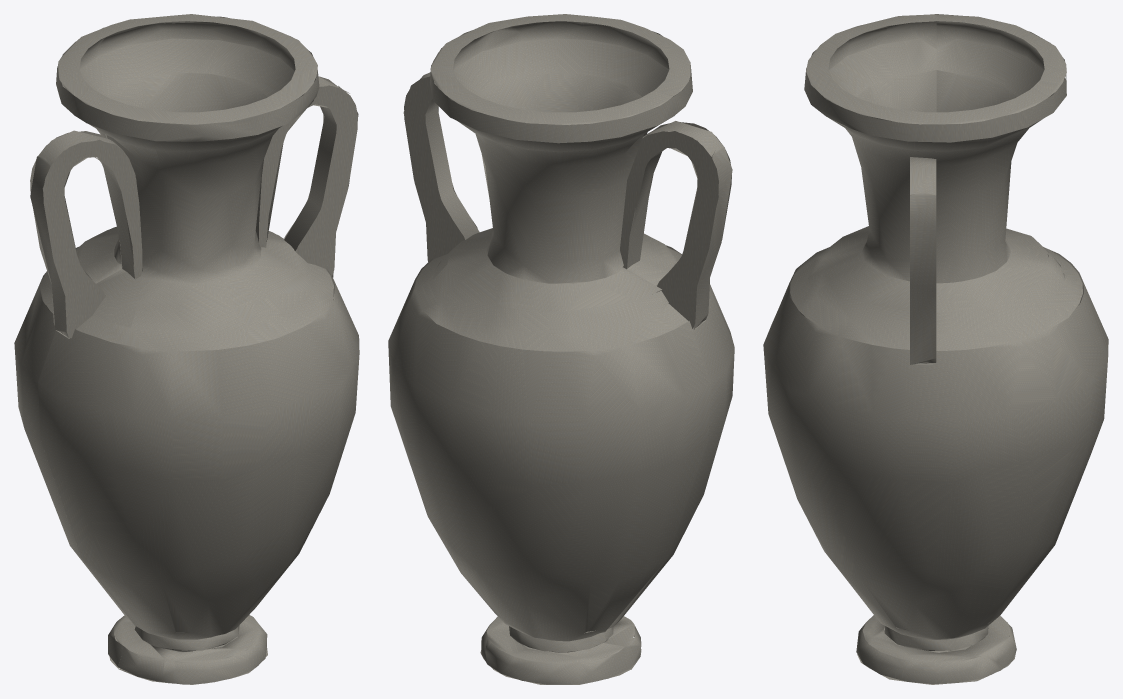
File: amphora_shadic02.glb
3 renders of one model, left to right at view 1: azimuth 30°, elevation 25°; view 2: azimuth 150°, elevation 25°; view 3: azimuth 270°, elevation 25°, orthographic.
Parts seen in each view (by area): view 1: __0; view 2: __0; view 3: __0.
Part boxes in pixels (box(x1,y1,x2,y2)): __0: box(14, 14, 359, 684); __0: box(388, 14, 734, 684); __0: box(763, 14, 1108, 684).
Bounding box in the file's own units: 694 × 1229 × 657.
1 material, 1 textured.
